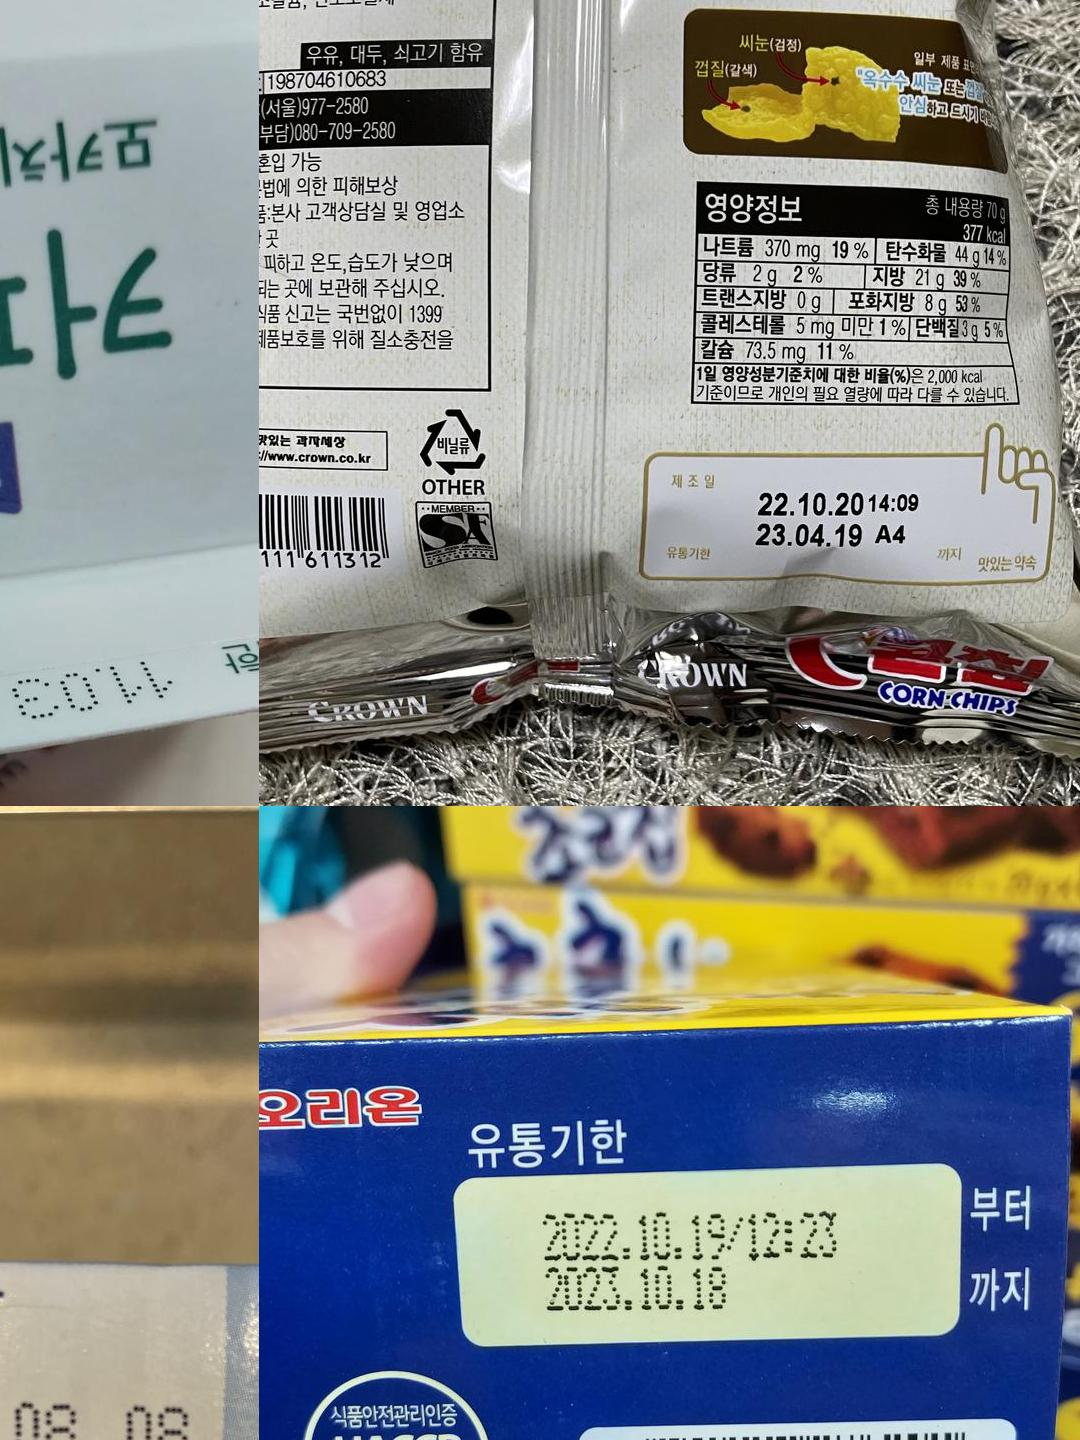milk: (0, 533, 259, 768), (0, 1262, 226, 1440)
snack food: (458, 1175, 956, 1336), (735, 471, 938, 566)
